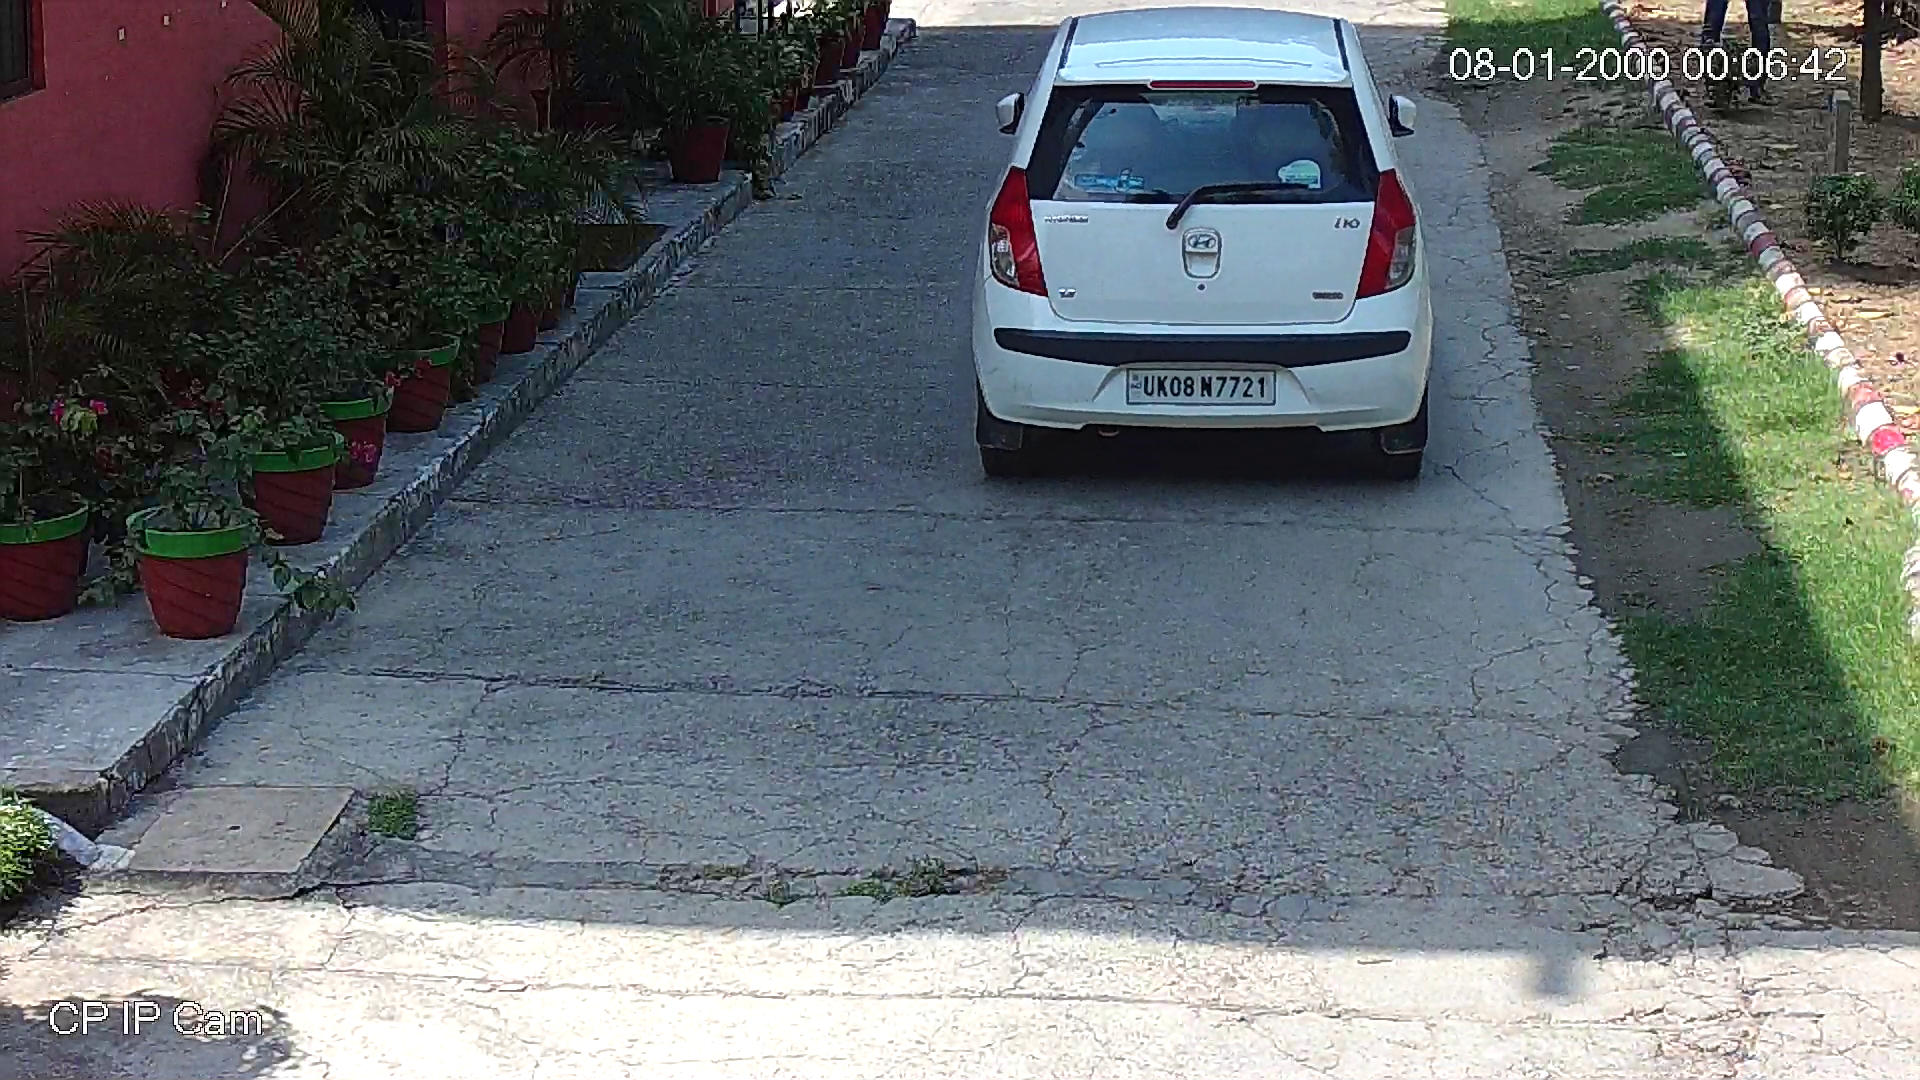plate: (1131, 367, 1275, 409)
